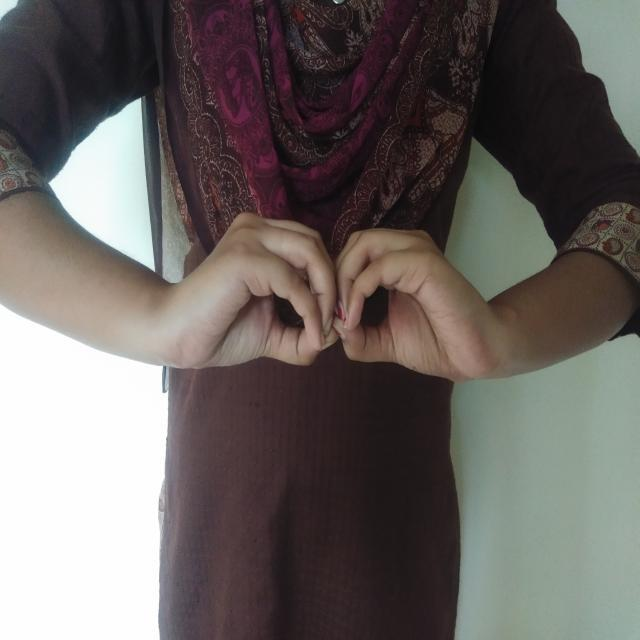B: (160, 200, 506, 404)
